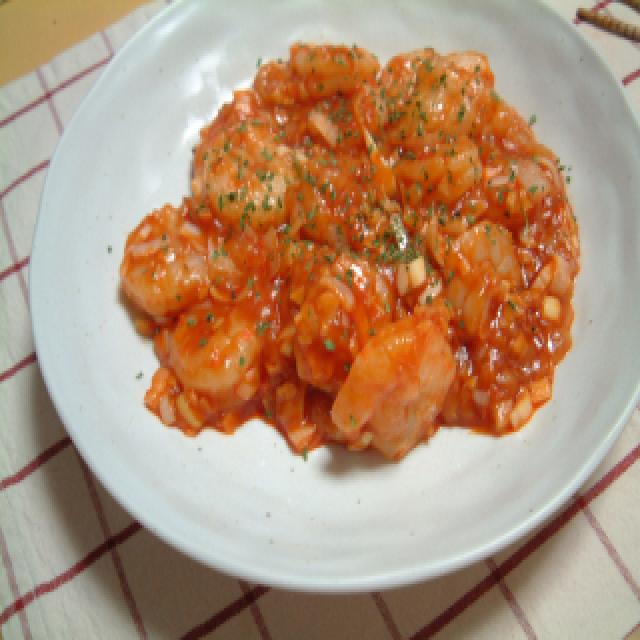熟制海鲜: (20, 0, 640, 597)
